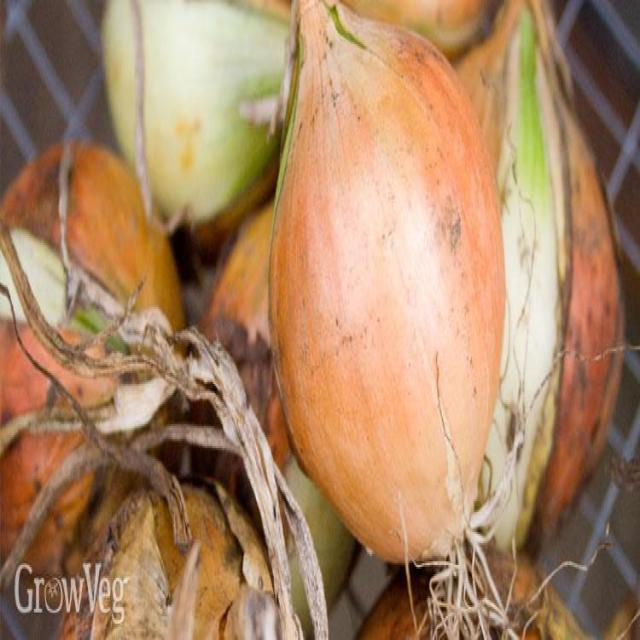Onion: (265, 0, 593, 640), (0, 226, 330, 640), (453, 0, 624, 560), (0, 139, 183, 640), (189, 199, 360, 640), (103, 0, 300, 227), (352, 554, 587, 640), (347, 0, 496, 64)
